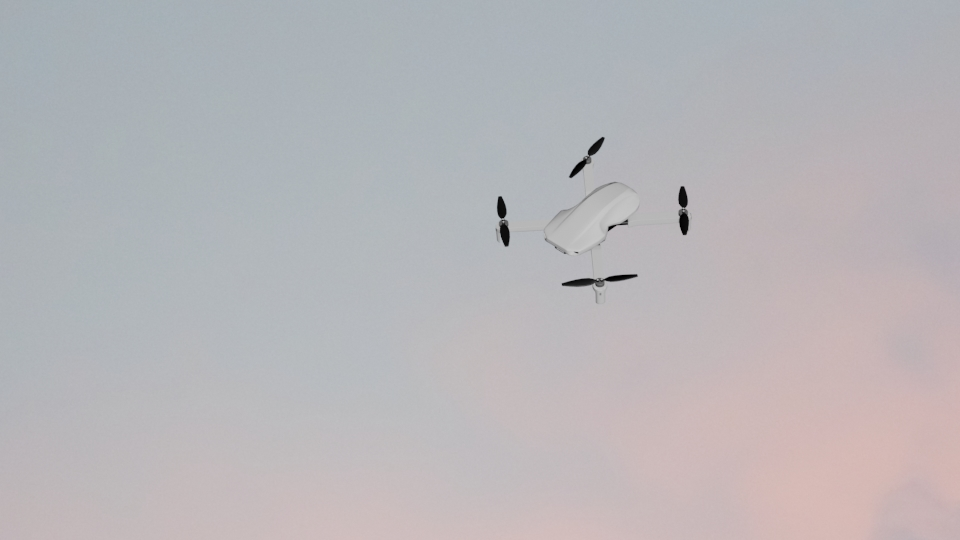drone: (492, 136, 692, 306)
